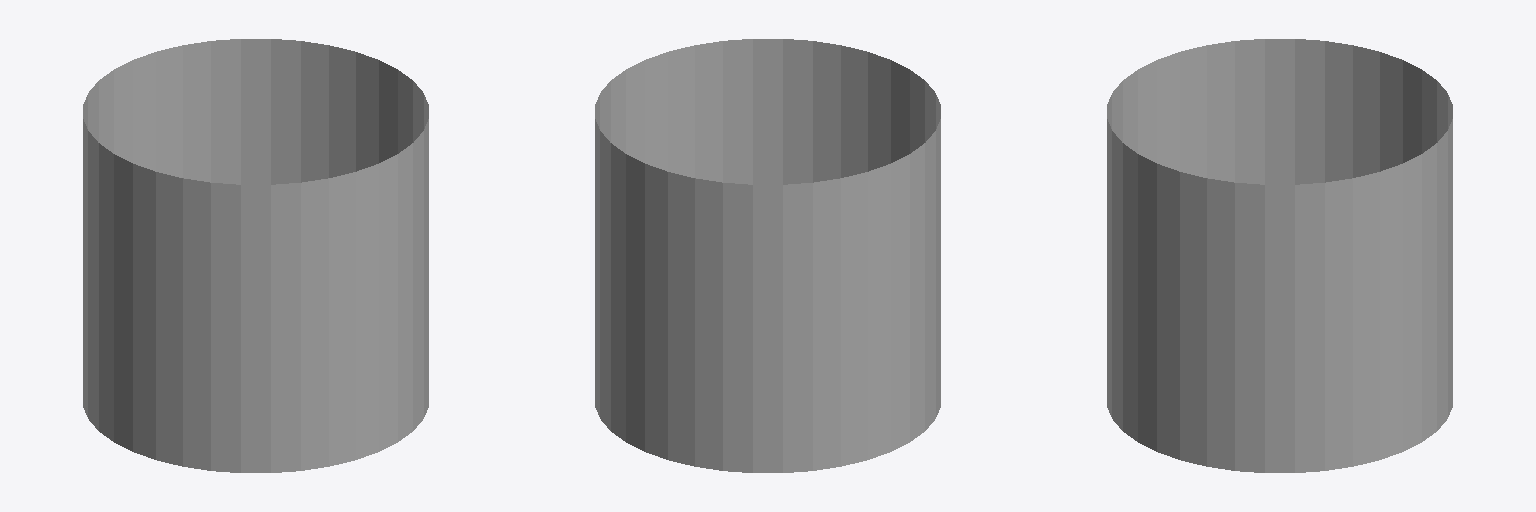
File: original-9.obj
3 views of the same model, side by side, from view 1: azimuth 30°, elevation 25°; view 2: azimuth 150°, elevation 25°; view 3: azimuth 270°, elevation 25° (orthographic).
Visible parts, largest first — view 1: #ID38; view 2: #ID38; view 3: #ID38.
Boxes of the visible parts, <box> form: #ID38: <box>83,39,428,472</box>; #ID38: <box>595,39,940,472</box>; #ID38: <box>1107,39,1452,472</box>.
Size of the model in its own units: 0.0463 by 0.0426 by 0.0463.